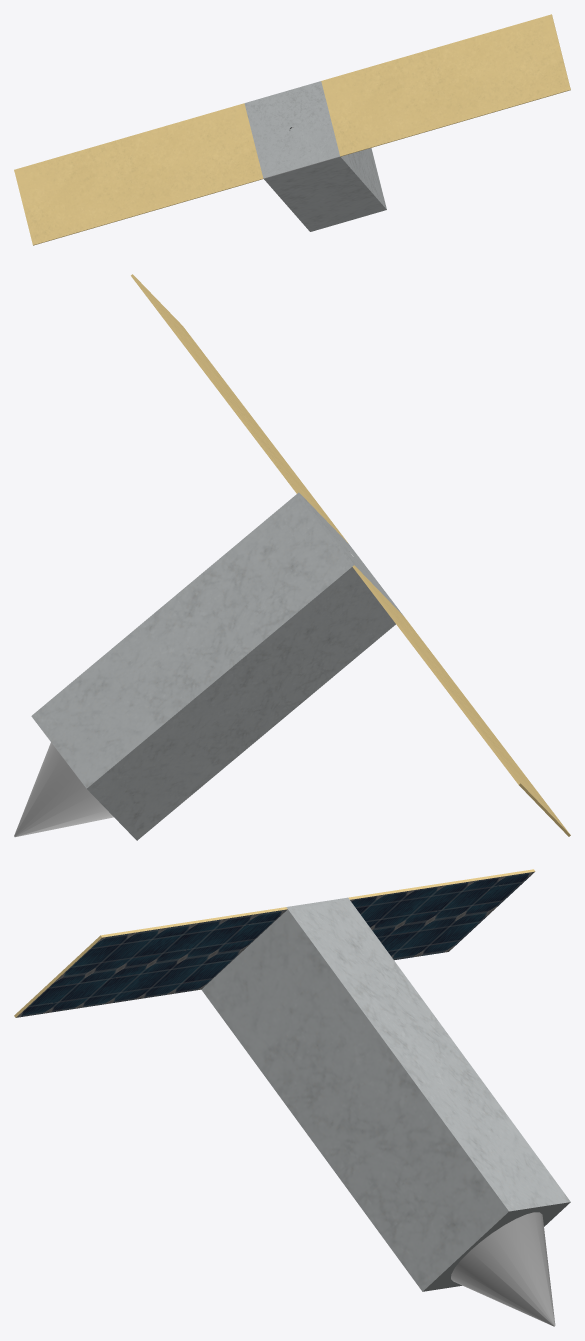
The model's file is large_cubesat_male.dae.
3 renders of one model, top to bottom at view 1: azimuth 30°, elevation 25°; view 2: azimuth 150°, elevation 25°; view 3: azimuth 270°, elevation 25°, orthographic. The views are drawn at different scales.
Parts seen in each view (by area): view 1: Cube; view 2: Cube; view 3: Cube.
Boxes of the visible parts, bbox=[...] form: Cube: bbox=[14, 14, 570, 245]; Cube: bbox=[14, 274, 570, 840]; Cube: bbox=[14, 869, 570, 1326].
Bounding box in the file's own units: 0.5899 × 0.4292 × 0.3767.
Materials: 4 (3 with a texture image).
